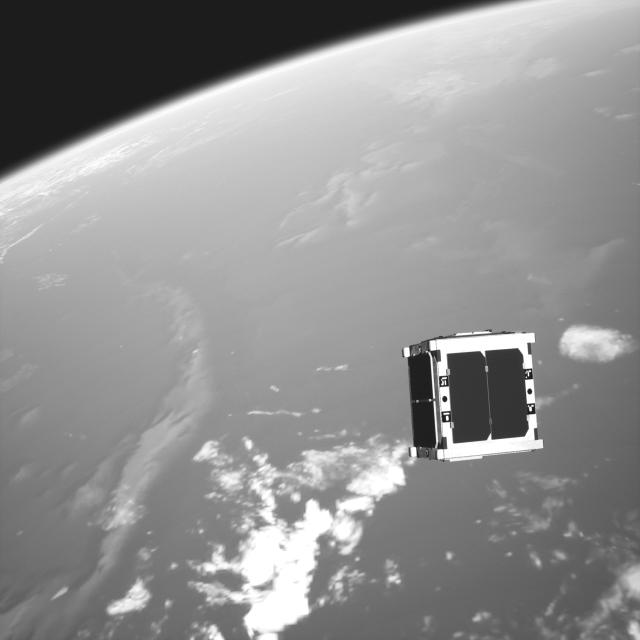medium_debris: (401, 324, 549, 464)
